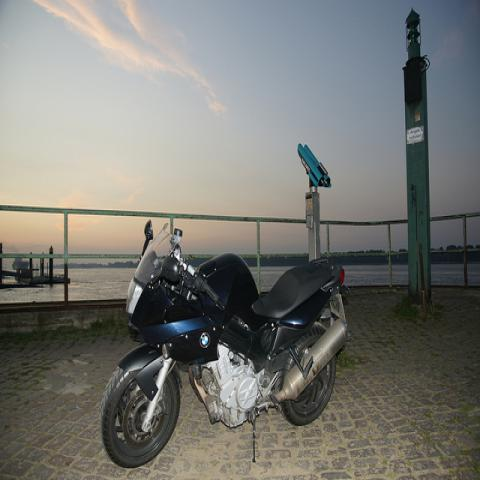motorcycle: (100, 211, 350, 468)
